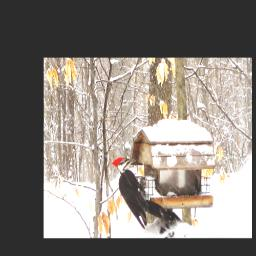Woodpecker: (110, 157, 175, 230)
